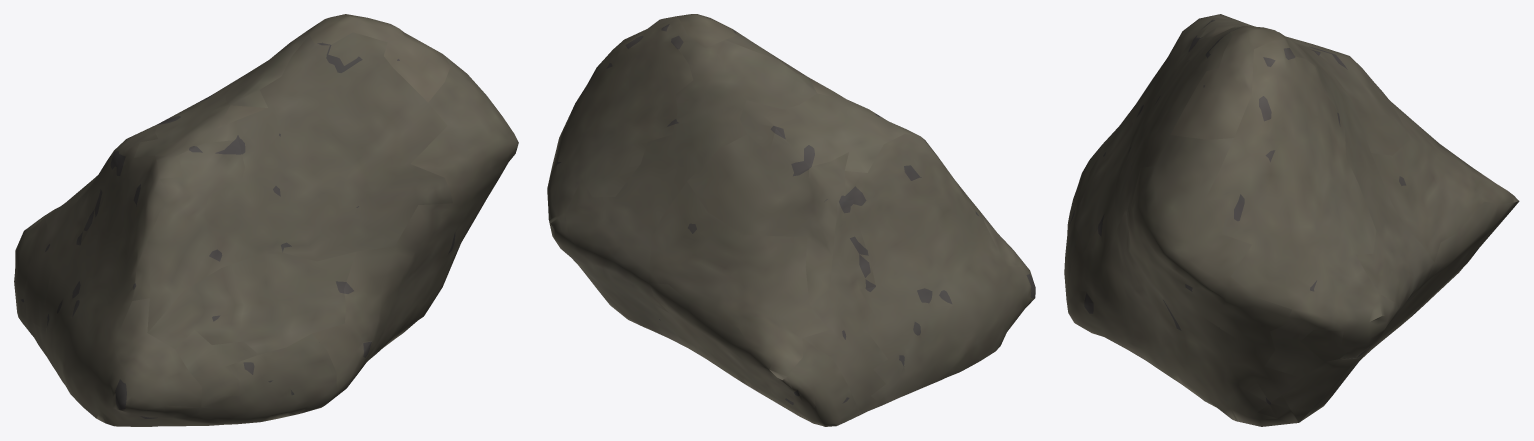
Rendered from corealm_ore_emberite.glb.
3 views of the same model, side by side, from view 1: azimuth 30°, elevation 25°; view 2: azimuth 150°, elevation 25°; view 3: azimuth 270°, elevation 25° (orthographic). The views are drawn at different scales.
Parts seen in each view (by area): view 1: corealm_ore_emberite; view 2: corealm_ore_emberite; view 3: corealm_ore_emberite.
Part boxes in pixels (bbox=[...]): corealm_ore_emberite: bbox=[14, 14, 518, 426]; corealm_ore_emberite: bbox=[547, 14, 1035, 426]; corealm_ore_emberite: bbox=[1064, 14, 1519, 426].
Size of the model in its own units: 2.6 by 1.75 by 2.05.
2 materials, 2 textured.
